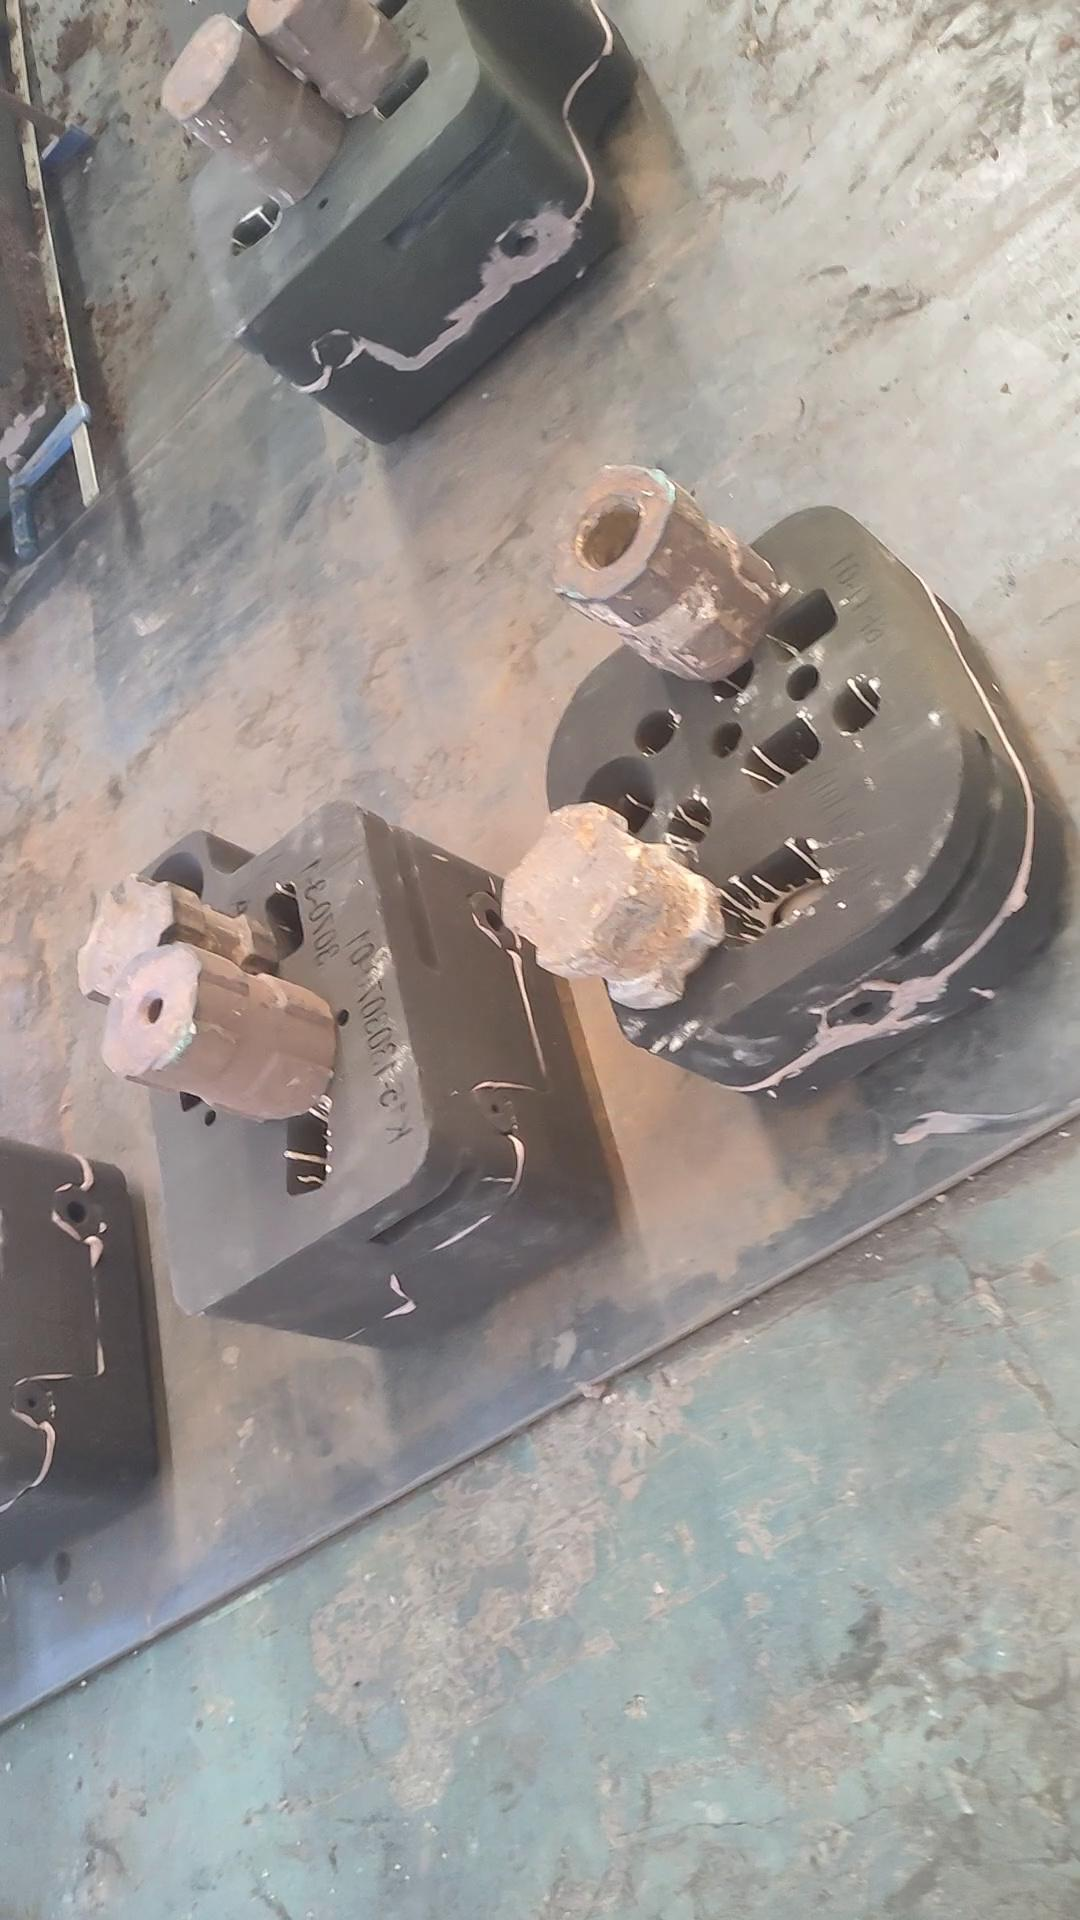pouring hole: (574, 756, 657, 833), (138, 851, 203, 911)
